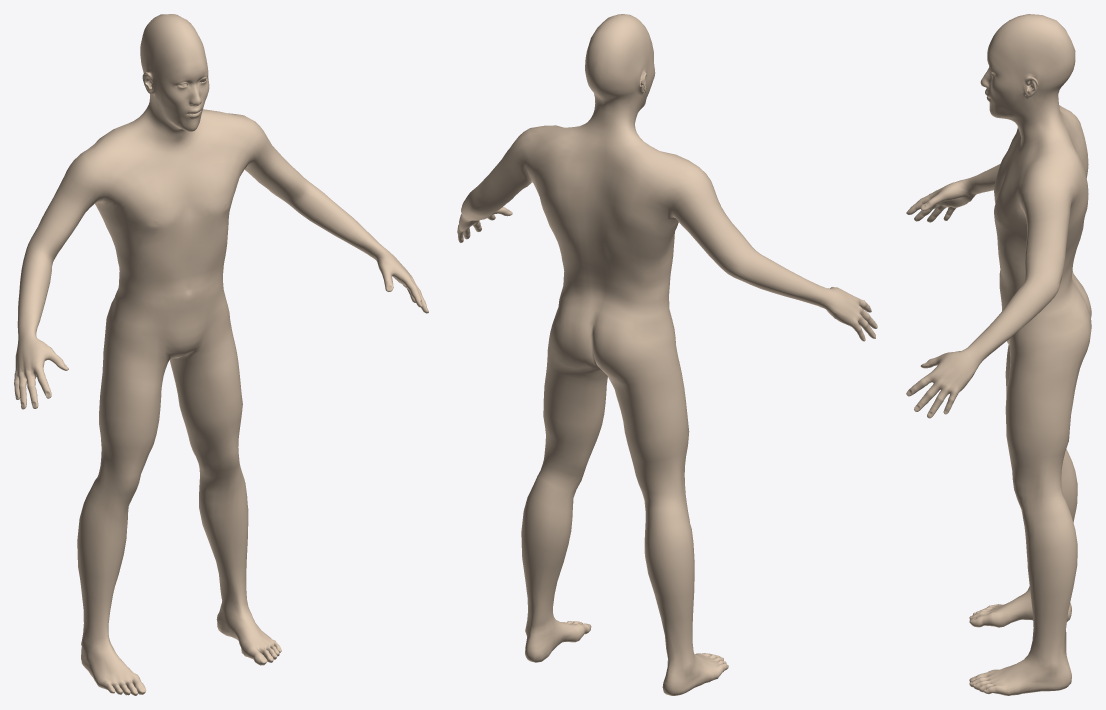
Rendered from rui_body.fbx.
3 renders of one model, left to right at view 1: azimuth 30°, elevation 25°; view 2: azimuth 150°, elevation 25°; view 3: azimuth 270°, elevation 25°, orthographic.
Parts seen in each view (by area): view 1: Human; view 2: Human; view 3: Human.
Part boxes in pixels (bbox=[...]): Human: bbox=[14, 14, 428, 695]; Human: bbox=[457, 14, 877, 695]; Human: bbox=[906, 14, 1091, 695].
Bounding box in the file's own units: 124 × 187 × 49.08.
